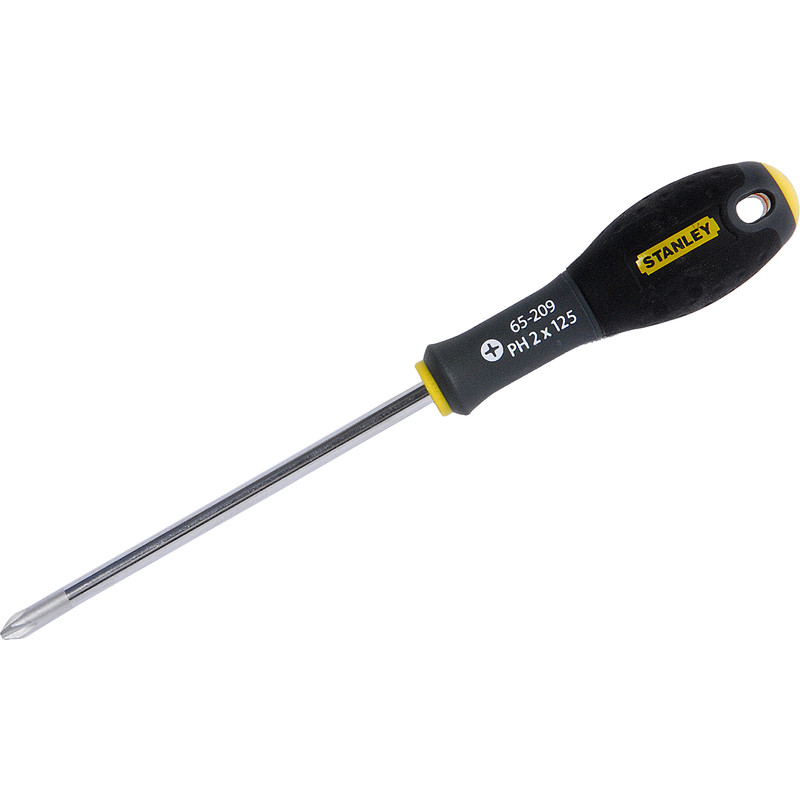screwdriver: (1, 159, 800, 641)
